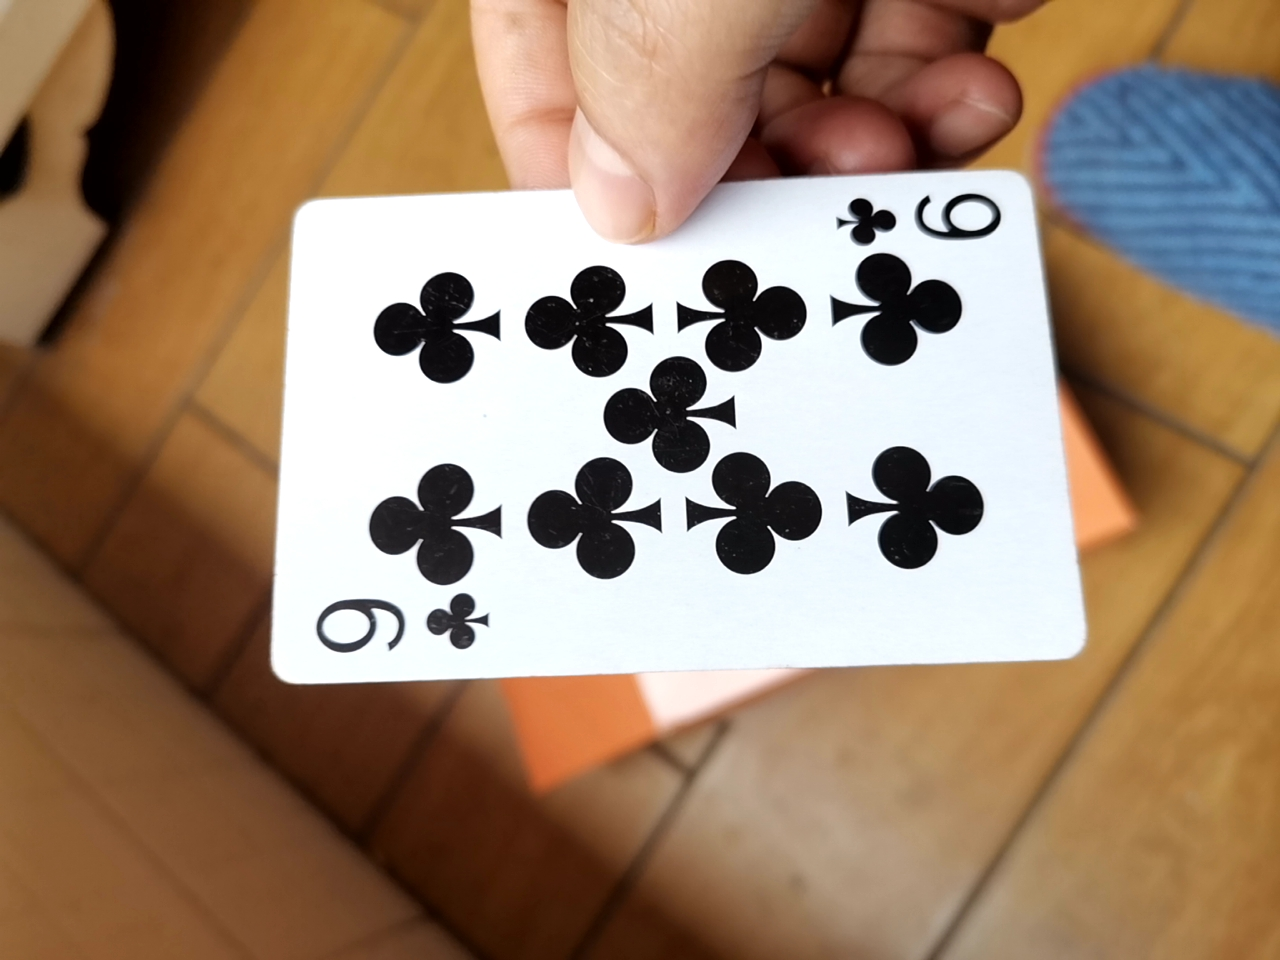mh 9: (255, 160, 1089, 703)
